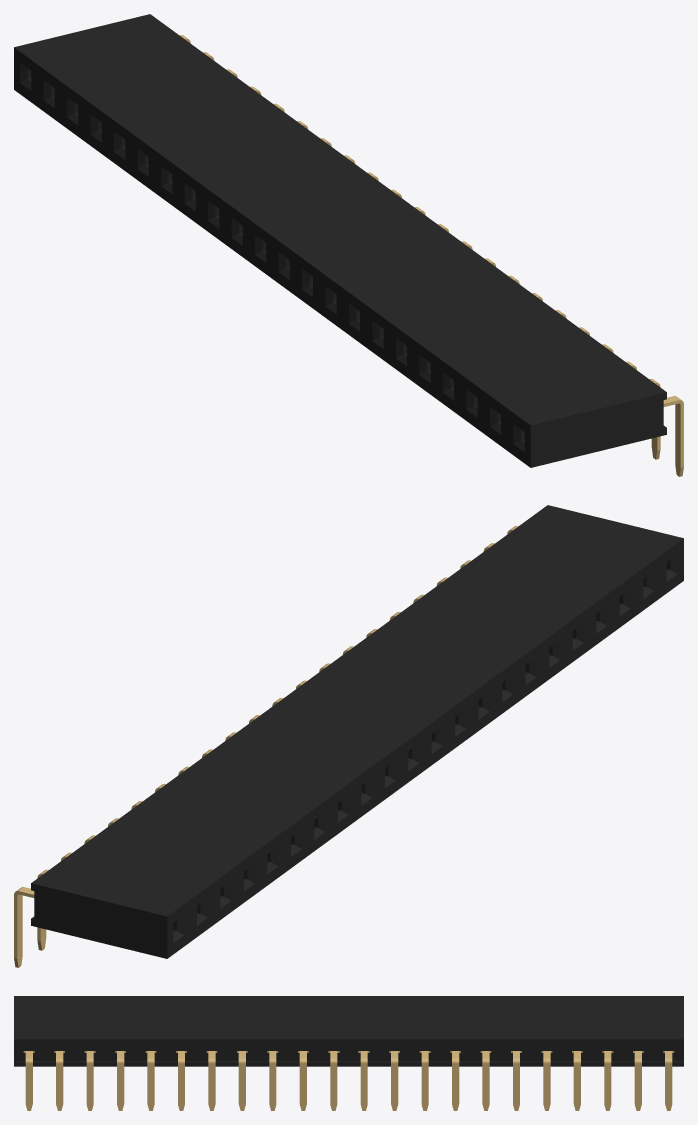
Rendered from kc-pinsocket_1x22_p2.54mm_horizontal.glb.
3 views of the same model, one above another, from view 1: azimuth 30°, elevation 25°; view 2: azimuth 150°, elevation 25°; view 3: azimuth 270°, elevation 25° (orthographic). The views are drawn at different scales.
Visible parts, largest first — view 1: 0_0_0_0, 0.75_0.5_0.25_0.9; view 2: 0_0_0_0, 0.75_0.5_0.25_0.9; view 3: 0_0_0_0, 0.75_0.5_0.25_0.9.
Boxes of the visible parts, left/top/right/bottom form: 0_0_0_0: left=14, top=14, right=666, bottom=467; 0.75_0.5_0.25_0.9: left=179, top=35, right=683, bottom=476; 0_0_0_0: left=31, top=505, right=683, bottom=958; 0.75_0.5_0.25_0.9: left=14, top=526, right=518, bottom=967; 0_0_0_0: left=14, top=996, right=683, bottom=1066; 0.75_0.5_0.25_0.9: left=23, top=1051, right=674, bottom=1110.
Bounding box in the file's own units: 1.01 × 0.5838 × 5.59.
